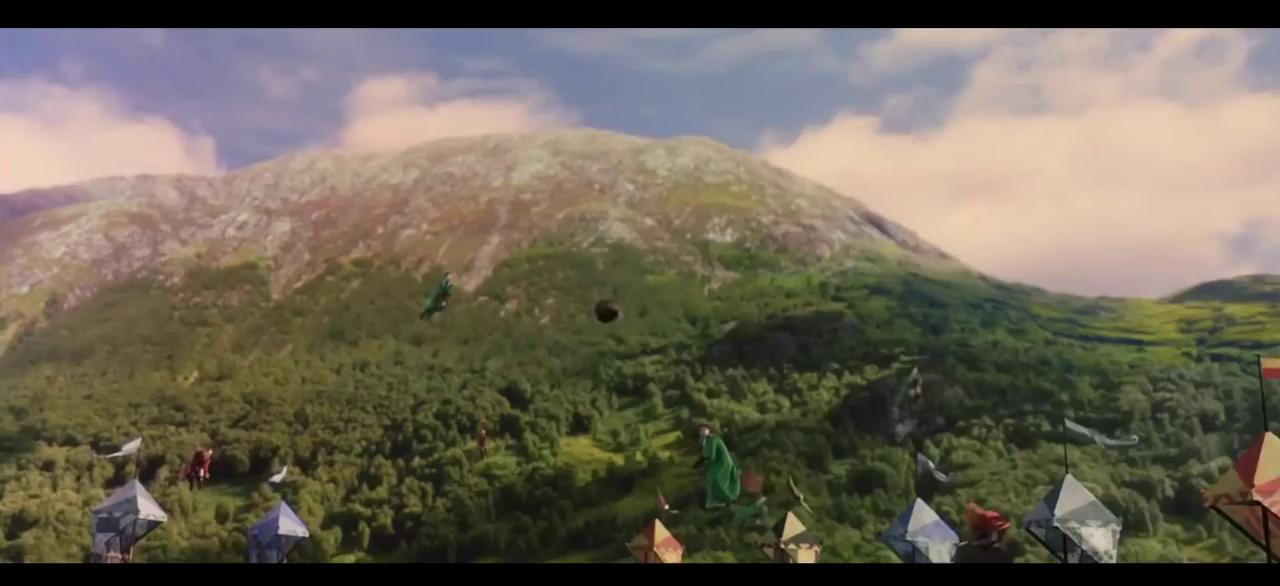quaffle: (592, 298, 623, 324)
